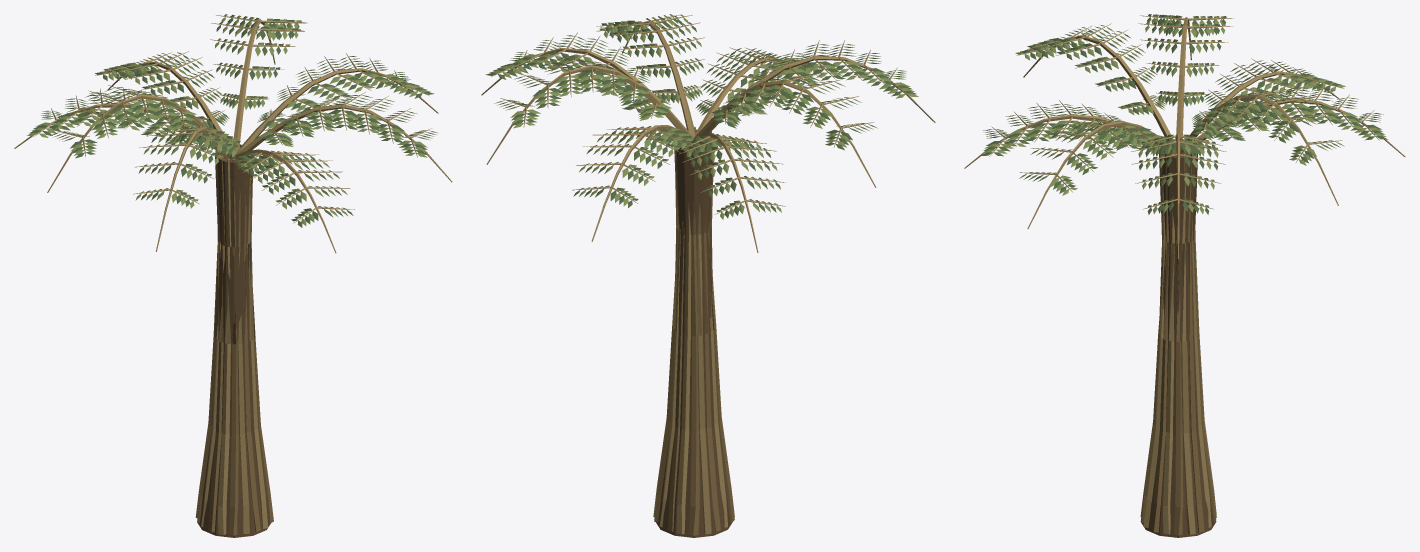
The model's file is psaronius.glb.
The picture shows the model from 3 angles, left to right: view 1: azimuth 30°, elevation 25°; view 2: azimuth 150°, elevation 25°; view 3: azimuth 270°, elevation 25°; orthographic projection. The views are drawn at different scales.
Parts seen in each view (by area): view 1: root-mantled-tree-eight-bipinnate-fronds; view 2: root-mantled-tree-eight-bipinnate-fronds; view 3: root-mantled-tree-eight-bipinnate-fronds.
Boxes of the visible parts, x1,y1,x2,y2 form: root-mantled-tree-eight-bipinnate-fronds: [14, 14, 452, 537]; root-mantled-tree-eight-bipinnate-fronds: [481, 14, 935, 537]; root-mantled-tree-eight-bipinnate-fronds: [964, 14, 1405, 537].
Size of the model in its own units: 2.74 by 3.07 by 2.69.
